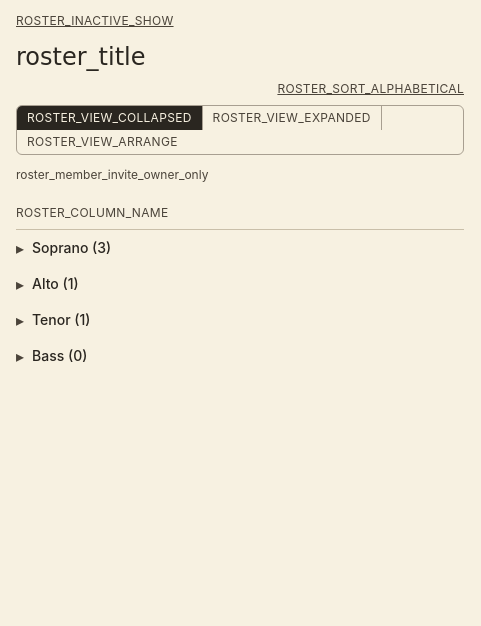
Test: /roster — the Arrange chip renders the compact arrange-mode shell (#155/S1) › activating Arrange makes it the one active chip and swaps roster-groups out for roster-arrange-list
Check: the element with test id "roster-groups" is shown, box [16,236,111,368]
Click the button "roster_view_arrange" at [102, 142], box [17,130,188,154]
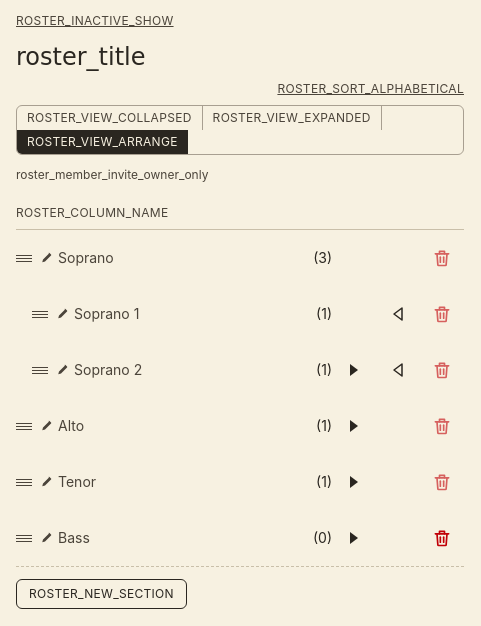
Check: the element with test id "roster-groups" is gone
